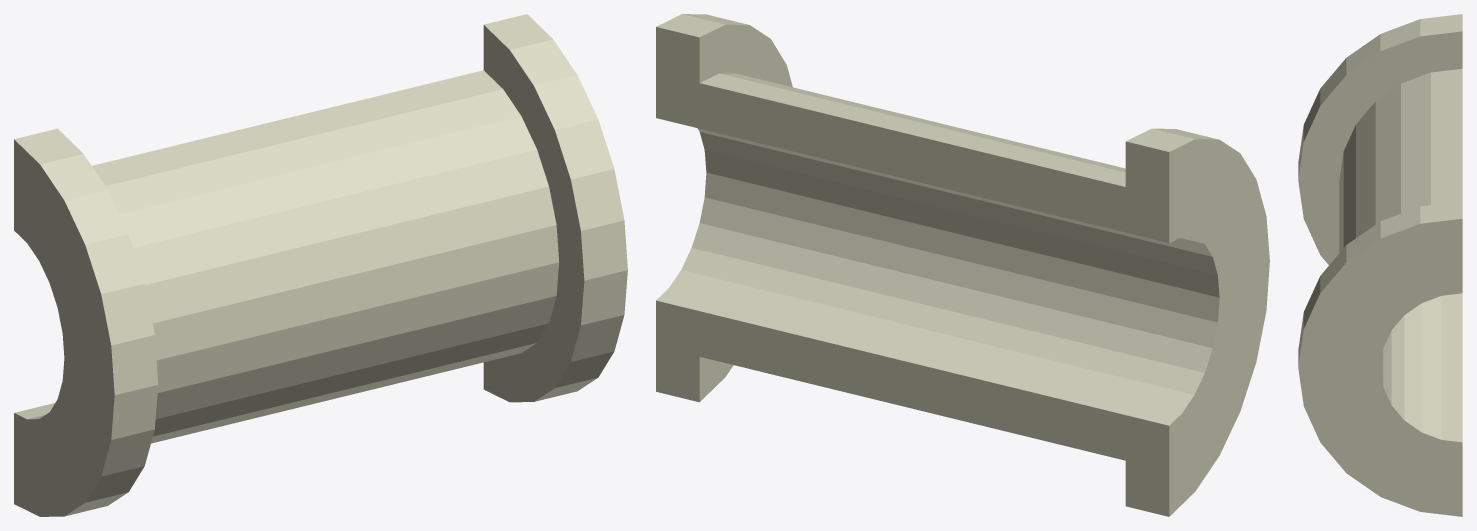
The model's file is section_011.obj.
The picture shows the model from 3 angles, left to right: view 1: azimuth 30°, elevation 25°; view 2: azimuth 150°, elevation 25°; view 3: azimuth 270°, elevation 25°; orthographic projection. The views are drawn at different scales.
Size of the model in its own units: 11.78 by 8 by 4.
